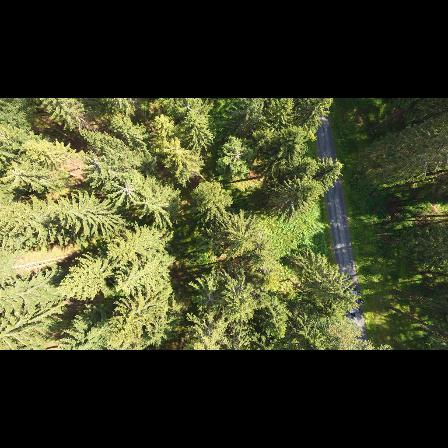Sick: (108, 177, 144, 203), (197, 288, 221, 314)
